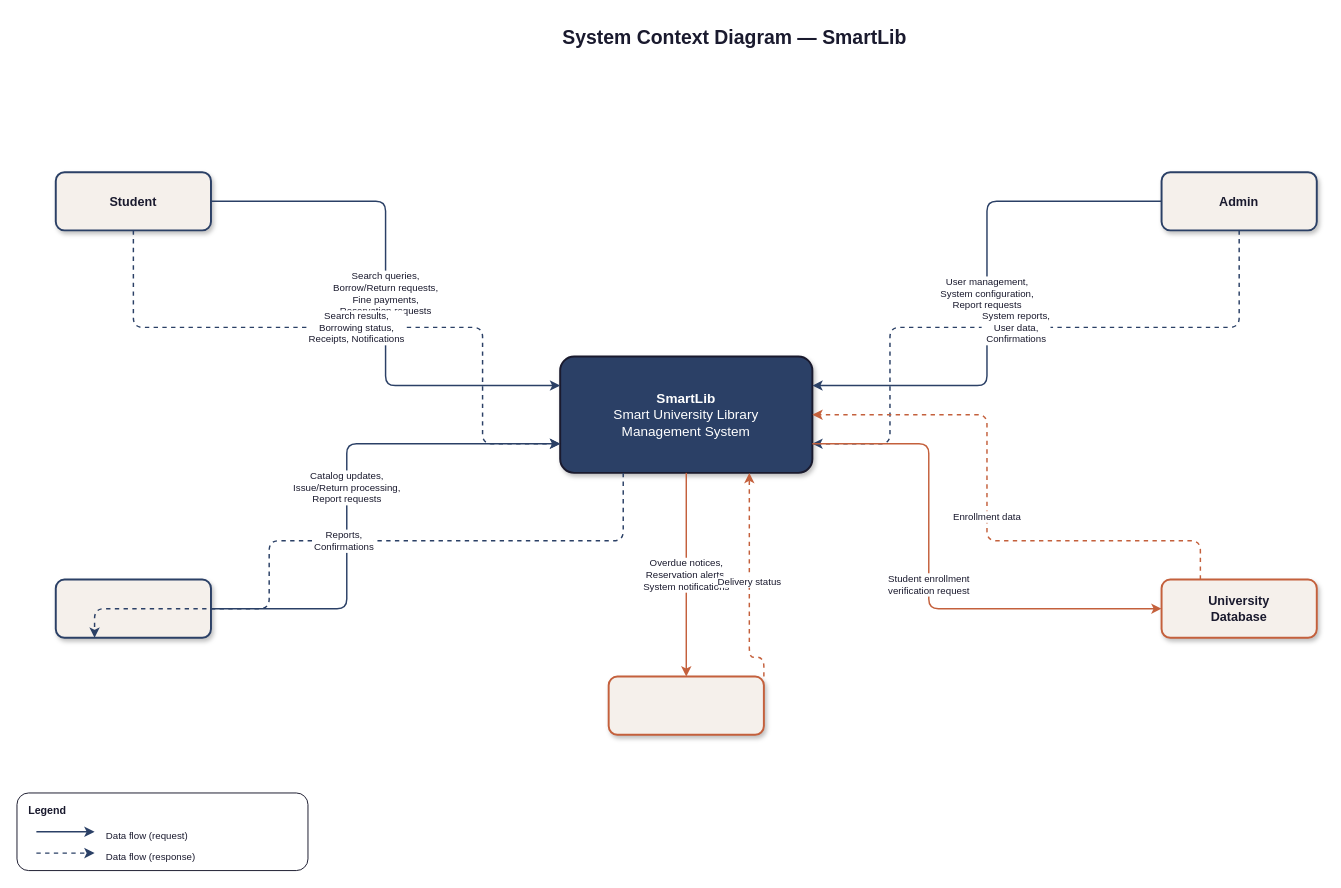
This 1341x888 diagram has some shape labels left out. The shapes that lost their labels are listed below. From the top down, each one's centre as x and y in pixels, then its label:
point (133, 609): Librarian
point (686, 706): Email Notification System
